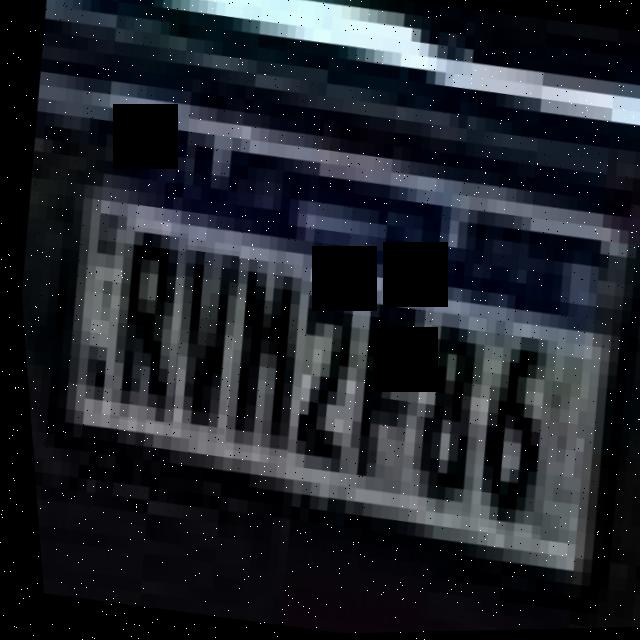6: (459, 322, 565, 538)
8: (392, 309, 495, 516)
F: (329, 287, 433, 499)
M: (206, 259, 310, 461)
R: (92, 225, 196, 428)
V: (153, 245, 247, 439)
